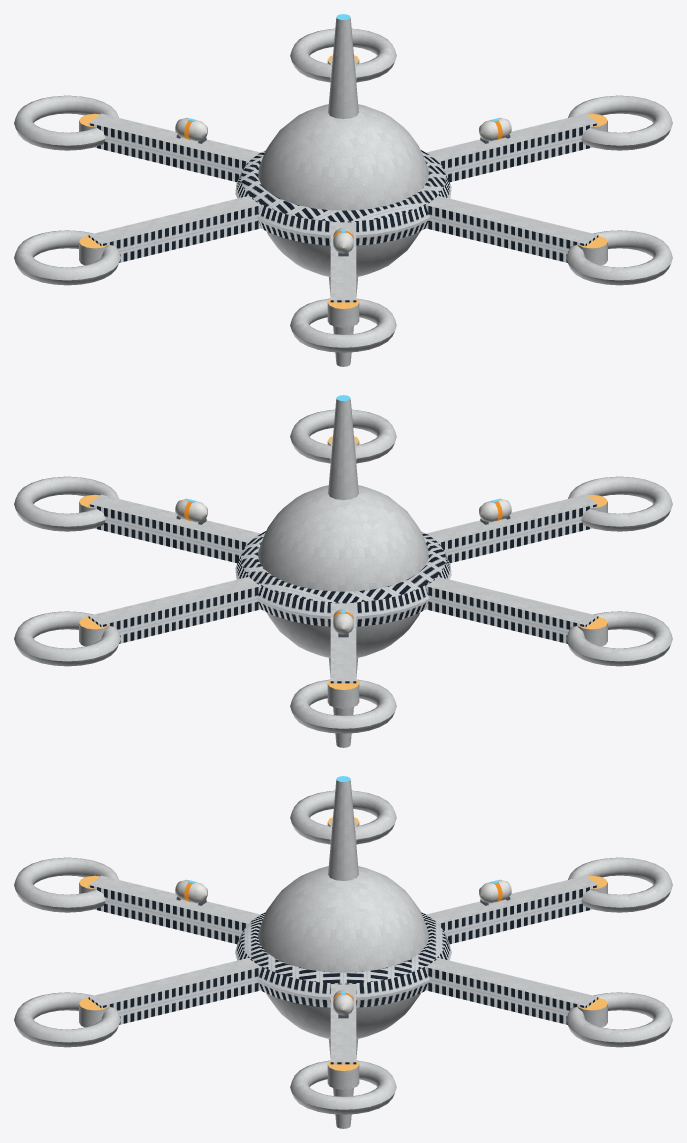
Rendered from nebula_crossroads_hub.glb.
The picture shows the model from 3 angles, top to bottom: view 1: azimuth 30°, elevation 25°; view 2: azimuth 150°, elevation 25°; view 3: azimuth 270°, elevation 25°; orthographic projection.
Visible parts, largest first — view 1: nebula_crossroads_hub_LOD0; view 2: nebula_crossroads_hub_LOD0; view 3: nebula_crossroads_hub_LOD0.
Part boxes in pixels (x1,y1,x2,y2): nebula_crossroads_hub_LOD0: (14, 14, 672, 366); nebula_crossroads_hub_LOD0: (14, 395, 672, 747); nebula_crossroads_hub_LOD0: (14, 776, 672, 1128).
Size of what is drawn, in the model's own units: 93.4 by 48.01 by 82.68.
3 materials, 3 textured.
